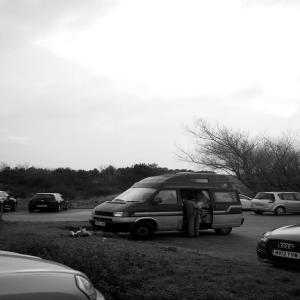Vehicle-registration-plate: (274, 251, 300, 259)
